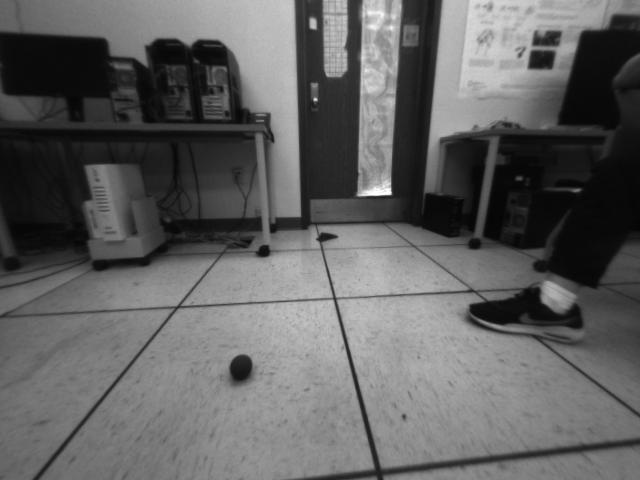dogtoy: (225, 346, 260, 388)
